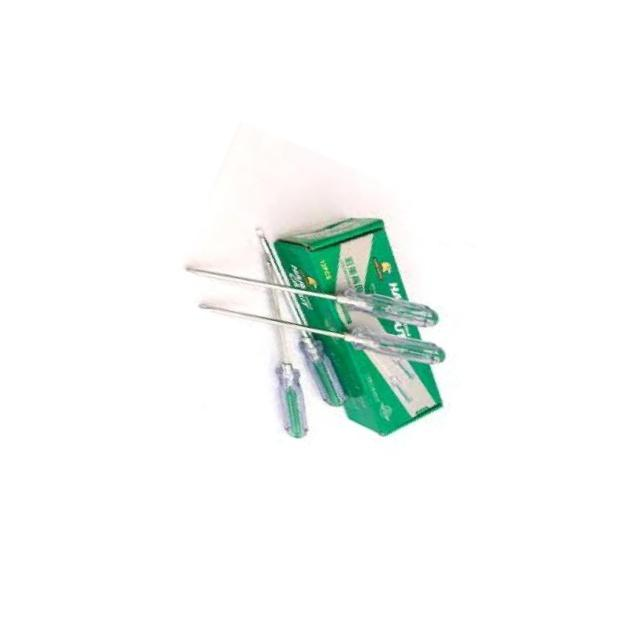screwdriver: (184, 211, 450, 373), (194, 254, 451, 408), (200, 225, 396, 412), (204, 258, 366, 442)
